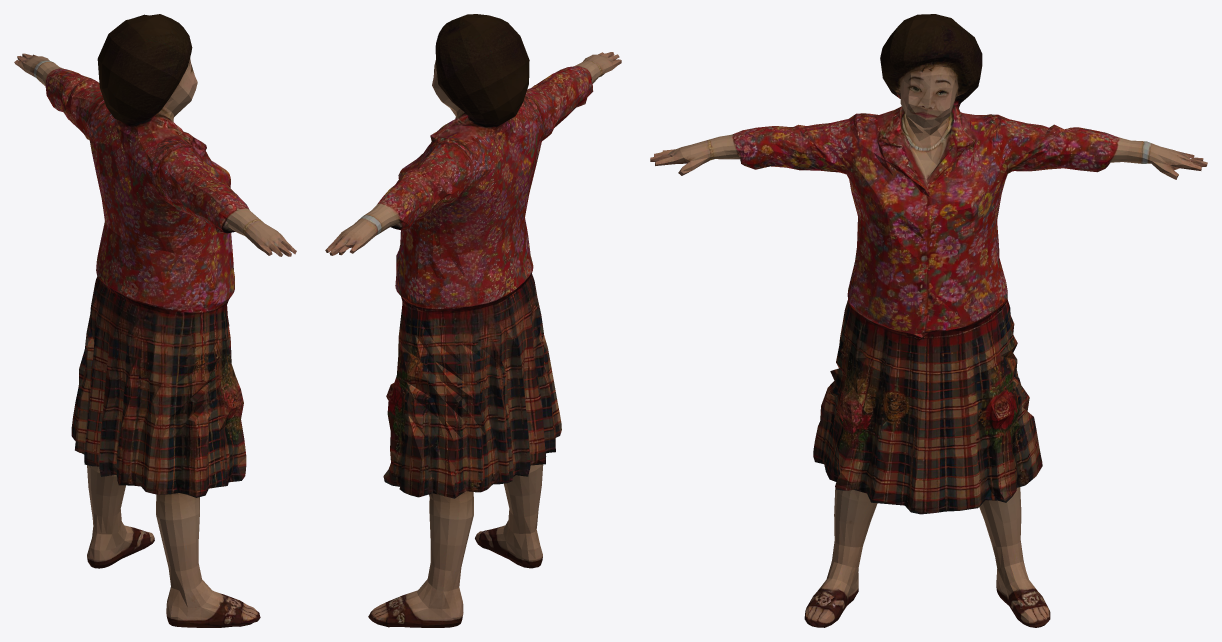
File: 花花大媽原始.obj
3 renders of one model, left to right at view 1: azimuth 30°, elevation 25°; view 2: azimuth 150°, elevation 25°; view 3: azimuth 270°, elevation 25°, orthographic.
Visible parts, largest first — view 1: tripo_node_dbc0a399-5f00-48d4-910b-8380a2d0463e; view 2: tripo_node_dbc0a399-5f00-48d4-910b-8380a2d0463e; view 3: tripo_node_dbc0a399-5f00-48d4-910b-8380a2d0463e.
Boxes of the visible parts, x1,y1,x2,y2 form: tripo_node_dbc0a399-5f00-48d4-910b-8380a2d0463e: (14,14,296,627); tripo_node_dbc0a399-5f00-48d4-910b-8380a2d0463e: (325,14,621,627); tripo_node_dbc0a399-5f00-48d4-910b-8380a2d0463e: (650,14,1207,627).
Bounding box in the file's own units: 0.2472 × 0.9973 × 0.8651.
1 material, 1 textured.
